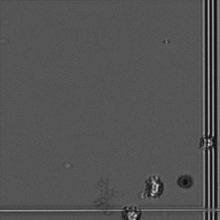Dead Cell: (175, 172, 195, 192)
Living Cell: (140, 172, 167, 199)
